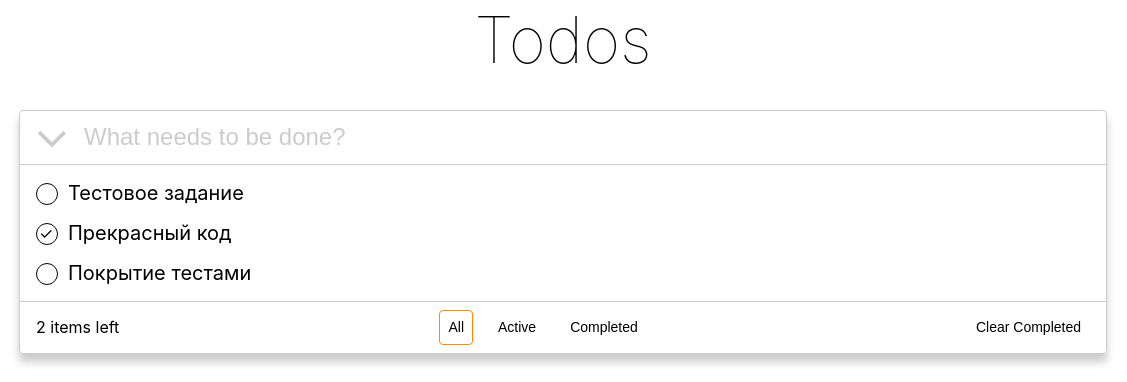
Scenario: TodoList Component › Filters todos by "Active"
Click the button "Active": (517, 327) [489,310,545,345]
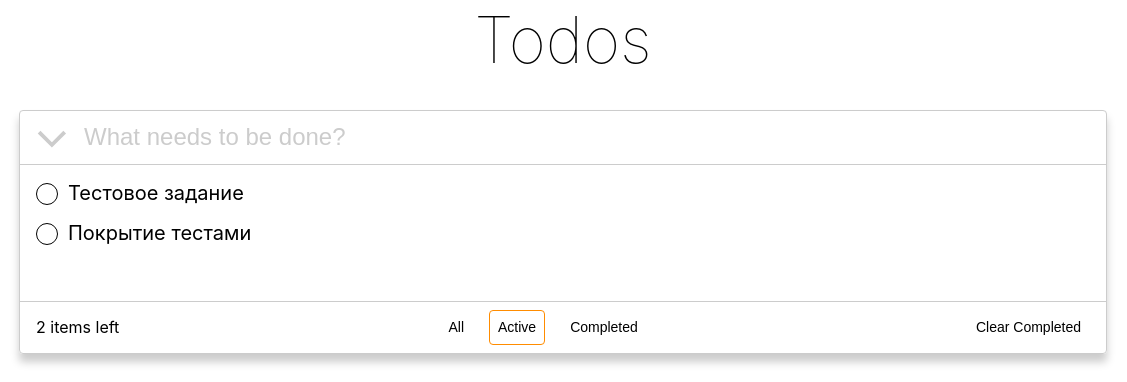
Expected: the list item "Прекрасный код" is gone
